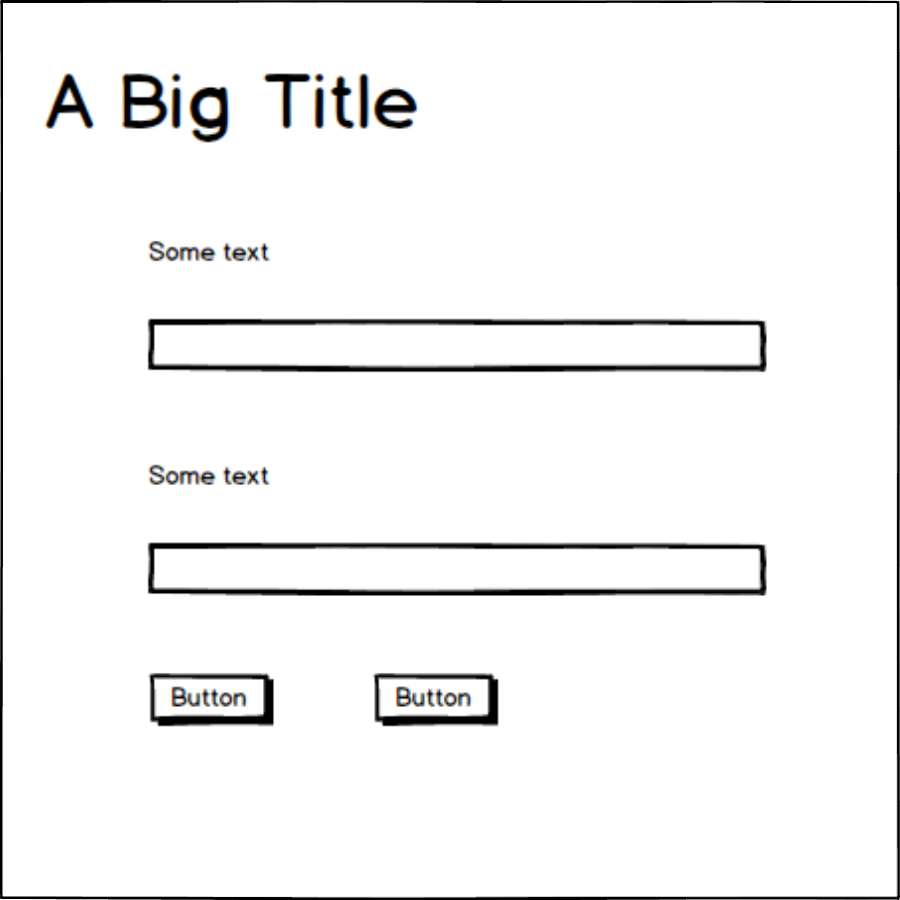button: (144, 670, 282, 732), (372, 671, 502, 732)
h1: (35, 63, 427, 144)
input: (141, 530, 779, 606), (145, 308, 772, 381)
label: (141, 456, 282, 495), (142, 232, 275, 270)
